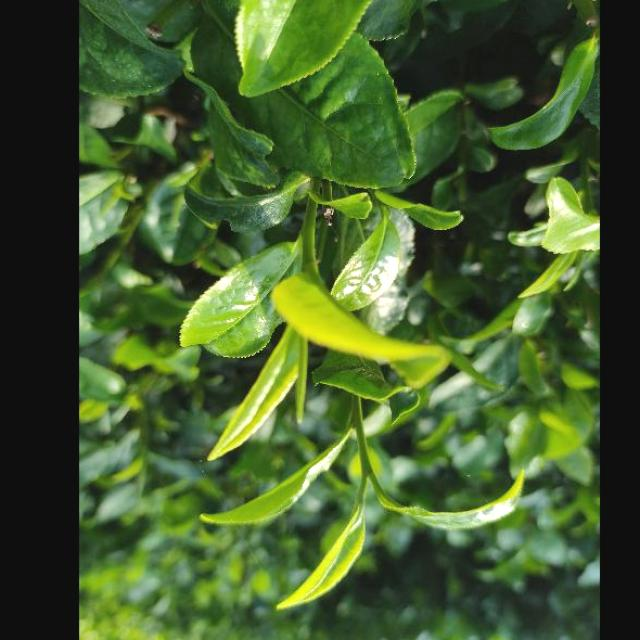Stem: (304, 256, 313, 269), (363, 466, 370, 475)
